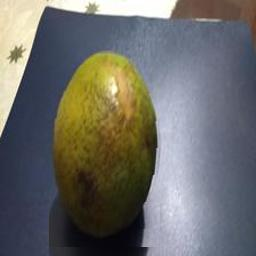Orange Semifresh: (49, 51, 166, 248)
